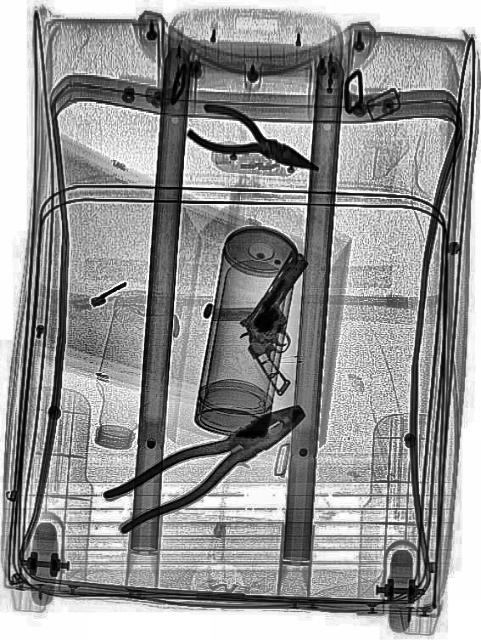Gun: (227, 248, 346, 397)
Pliers: (101, 387, 311, 541), (185, 93, 323, 187)
